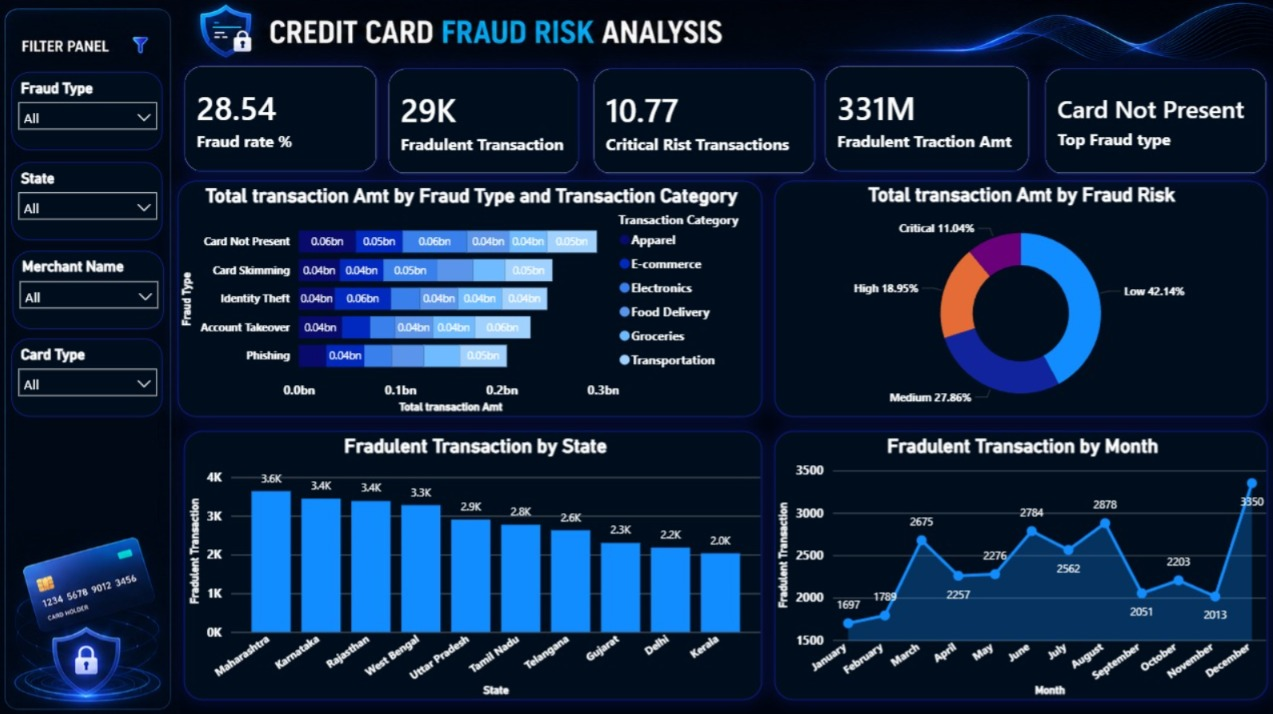

The page's visual inventory and layout, read from the dashboard file:
{"tool":"powerbi","page":{"name":"Page 1","canvas":[1280,720],"ordinal":0},"visuals":[{"type":"barChart","fields":{"Y":["Credit_Card_Fraud_Risk_Analysis_100k.Total transaction Amt"],"Category":["Credit_Card_Fraud_Risk_Analysis_100k.Fraud Type"],"Series":["Credit_Card_Fraud_Risk_Analysis_100k.Transaction Category"]},"box":[182.5,182.5,583.8,236.2],"z":0},{"type":"donutChart","fields":{"Y":["Credit_Card_Fraud_Risk_Analysis_100k.Total transaction Amt"],"Category":["Credit_Card_Fraud_Risk_Analysis_100k.Fraud Risk"]},"box":[778.8,182.5,492.5,236.2],"z":1000},{"type":"columnChart","fields":{"Y":["Credit_Card_Fraud_Risk_Analysis_100k.Fradulent Transaction"],"Category":["Credit_Card_Fraud_Risk_Analysis_100k.State"]},"box":[188.8,432.5,577.5,268.8],"z":2000},{"type":"lineChart","fields":{"Y":["Credit_Card_Fraud_Risk_Analysis_100k.Fradulent Transaction"],"Category":["Credit_Card_Fraud_Risk_Analysis_100k.Transaction Date.Variation.Date Hierarchy.Month"]},"box":[778.8,432.5,492.5,268.8],"z":2001},{"type":"slicer","fields":{"Values":["Credit_Card_Fraud_Risk_Analysis_100k.Fraud Type"]},"box":[16.2,73.8,151.2,78.8],"z":2002},{"type":"slicer","fields":{"Values":["Credit_Card_Fraud_Risk_Analysis_100k.State"]},"box":[16.2,163.8,151.2,78.8],"z":2003},{"type":"slicer","fields":{"Values":["Credit_Card_Fraud_Risk_Analysis_100k.Merchant Name"]},"box":[17.5,252.5,151.2,78.8],"z":2004},{"type":"slicer","fields":{"Values":["Credit_Card_Fraud_Risk_Analysis_100k.Card Type"]},"box":[16.2,340,151.2,78.8],"z":2005},{"type":"cardVisual","fields":{"Data":["Credit_Card_Fraud_Risk_Analysis_100k.Fraud rate %"]},"box":[188.8,67.5,193.8,106.2],"z":2006},{"type":"cardVisual","fields":{"Data":["Credit_Card_Fraud_Risk_Analysis_100k.Fradulent Transaction"]},"box":[392.5,70,191.2,106.2],"z":2007},{"type":"cardVisual","fields":{"Data":["Credit_Card_Fraud_Risk_Analysis_100k.Critical Rist Transactions"]},"box":[597.5,70,222.5,106.2],"z":2008},{"type":"cardVisual","fields":{"Data":["Credit_Card_Fraud_Risk_Analysis_100k.Fradulent Traction Amt"]},"box":[828.8,67.5,205,106.2],"z":2009},{"type":"cardVisual","fields":{"Data":["Credit_Card_Fraud_Risk_Analysis_100k.Top Fraud type"]},"box":[1048.8,70,222.5,106.2],"z":2010}]}

Visuals, with their boxes in screenshot pixels (x1, y1, x2, y2), scaled from the page's 1280x720 canvas onto the 1273x714 screenshot:
barChart - Credit_Card_Fraud_Risk_Analysis_100k.Total transaction Amt x Credit_Card_Fraud_Risk_Analysis_100k.Fraud Type: <region>182, 181, 762, 415</region>
donutChart - Credit_Card_Fraud_Risk_Analysis_100k.Total transaction Amt x Credit_Card_Fraud_Risk_Analysis_100k.Fraud Risk: <region>775, 181, 1264, 415</region>
columnChart - Credit_Card_Fraud_Risk_Analysis_100k.Fradulent Transaction x Credit_Card_Fraud_Risk_Analysis_100k.State: <region>188, 429, 762, 695</region>
lineChart - Credit_Card_Fraud_Risk_Analysis_100k.Fradulent Transaction x Credit_Card_Fraud_Risk_Analysis_100k.Transaction Date.Variation.Date Hierarchy.Month: <region>775, 429, 1264, 695</region>
slicer - Credit_Card_Fraud_Risk_Analysis_100k.Fraud Type: <region>16, 73, 166, 151</region>
slicer - Credit_Card_Fraud_Risk_Analysis_100k.State: <region>16, 162, 166, 241</region>
slicer - Credit_Card_Fraud_Risk_Analysis_100k.Merchant Name: <region>17, 250, 168, 329</region>
slicer - Credit_Card_Fraud_Risk_Analysis_100k.Card Type: <region>16, 337, 166, 415</region>
cardVisual - Credit_Card_Fraud_Risk_Analysis_100k.Fraud rate %: <region>188, 67, 381, 172</region>
cardVisual - Credit_Card_Fraud_Risk_Analysis_100k.Fradulent Transaction: <region>390, 69, 581, 175</region>
cardVisual - Credit_Card_Fraud_Risk_Analysis_100k.Critical Rist Transactions: <region>594, 69, 816, 175</region>
cardVisual - Credit_Card_Fraud_Risk_Analysis_100k.Fradulent Traction Amt: <region>824, 67, 1028, 172</region>
cardVisual - Credit_Card_Fraud_Risk_Analysis_100k.Top Fraud type: <region>1043, 69, 1264, 175</region>
